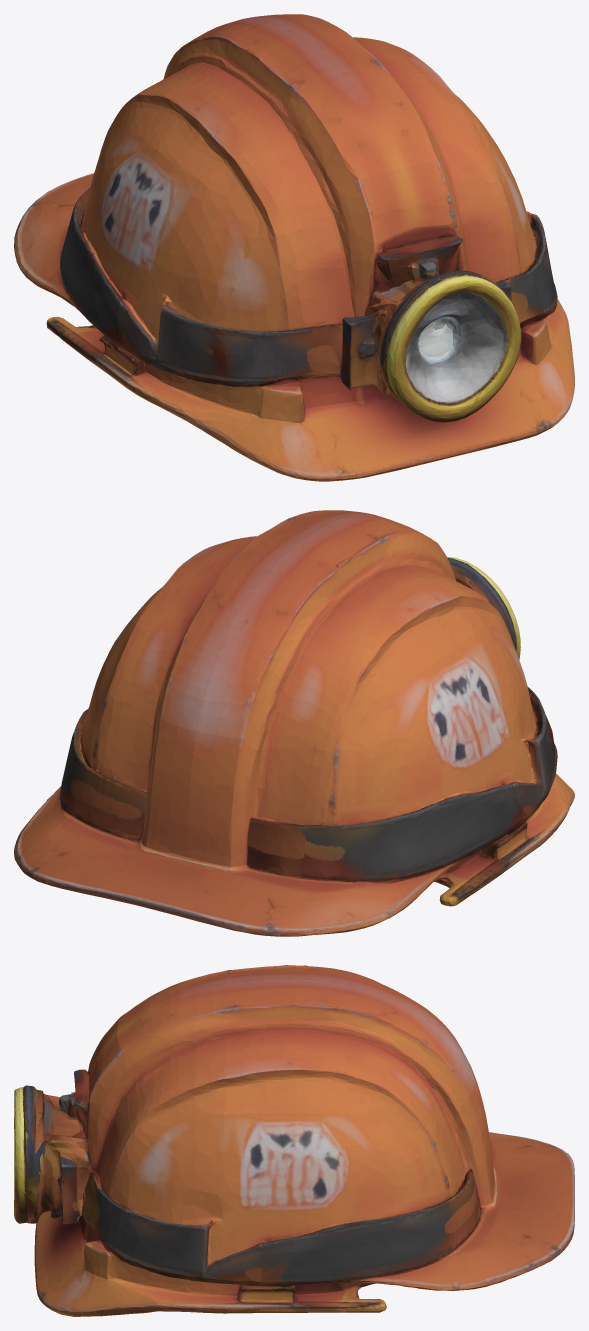
Rendered from casco_2.glb.
3 renders of one model, top to bottom at view 1: azimuth 30°, elevation 25°; view 2: azimuth 150°, elevation 25°; view 3: azimuth 270°, elevation 25°, orthographic. The views are drawn at different scales.
Visible parts, largest first — view 1: geometry_0; view 2: geometry_0; view 3: geometry_0.
Part boxes in pixels (box(x1,y1,x2,y2)): geometry_0: box(14, 14, 574, 481); geometry_0: box(14, 510, 574, 936); geometry_0: box(14, 965, 574, 1316).
Size of the model in its own units: 0.7581 by 0.5549 by 1.
Materials: 1 (1 with a texture image).
